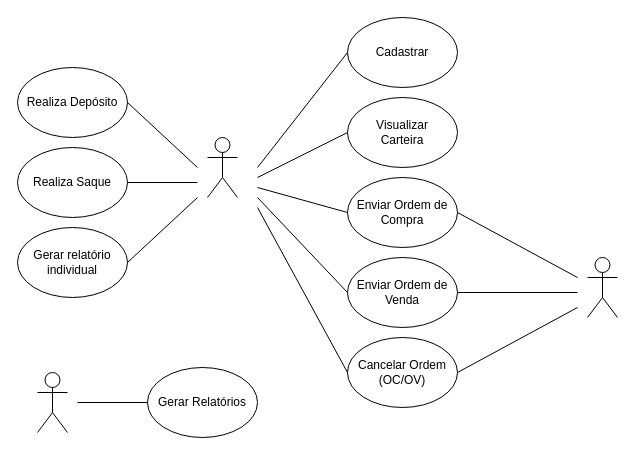
This 637x471 diagram has some shape labels left out. Each missing label, with the box of its shape:
Auditoria: (36, 372, 68, 432)
Broker: (586, 256, 618, 318)
Cliente: (206, 136, 238, 198)
